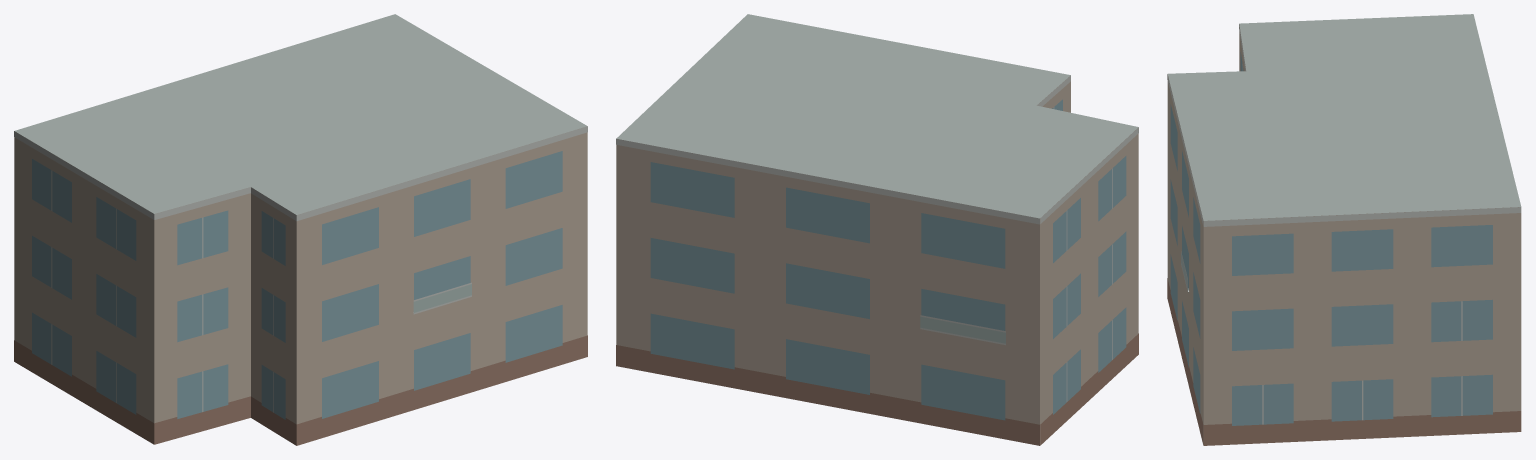
The model's file is survey-upis-32851245.glb.
3 renders of one model, left to right at view 1: azimuth 30°, elevation 25°; view 2: azimuth 150°, elevation 25°; view 3: azimuth 270°, elevation 25°, orthographic. The views are drawn at different scales.
Parts seen in each view (by area): view 1: survey-upis-32851245.tmp; view 2: survey-upis-32851245.tmp; view 3: survey-upis-32851245.tmp.
Part boxes in pixels (left/top/right/bottom): survey-upis-32851245.tmp: left=14, top=14, right=587, bottom=445; survey-upis-32851245.tmp: left=616, top=14, right=1138, bottom=445; survey-upis-32851245.tmp: left=1167, top=14, right=1521, bottom=445.
Bounding box in the file's own units: 18.07 × 9.15 × 13.06.
